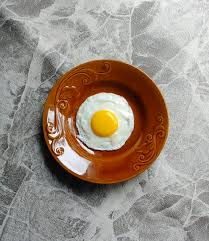Telur ceplok: (75, 92, 134, 151)
